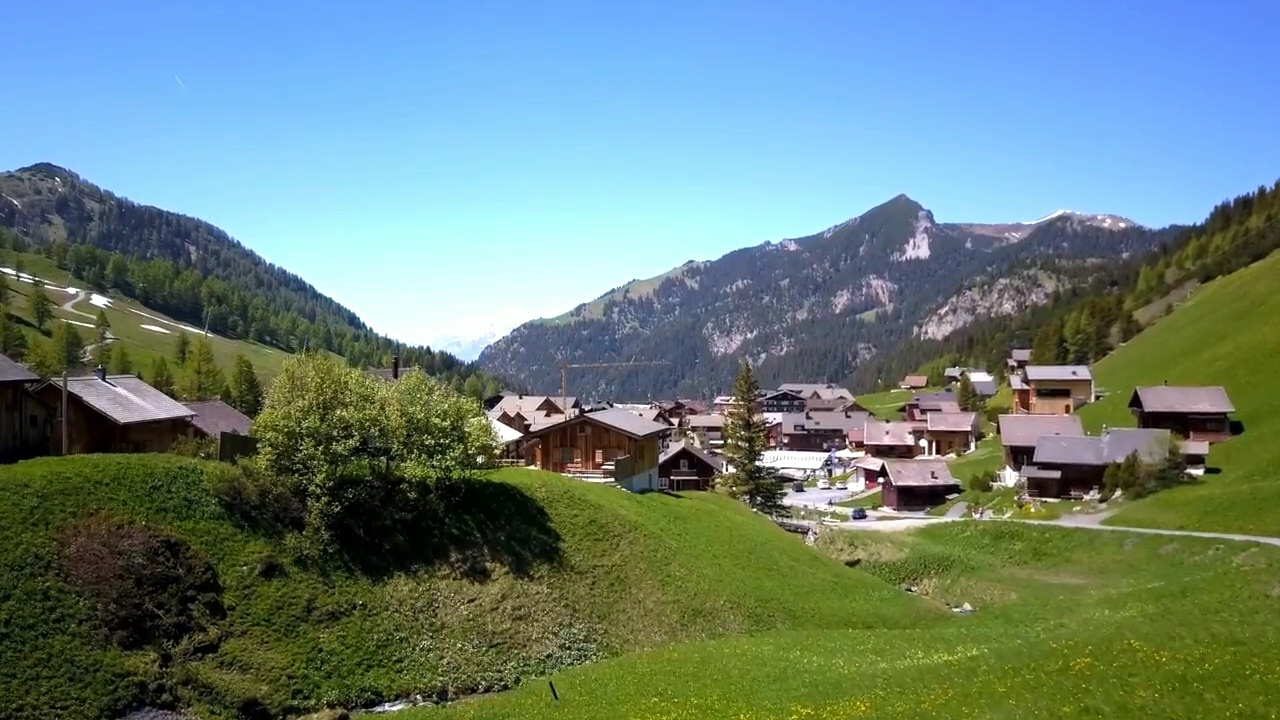araba: (790, 479, 804, 499), (852, 506, 868, 521), (815, 478, 831, 493), (837, 474, 846, 491)
